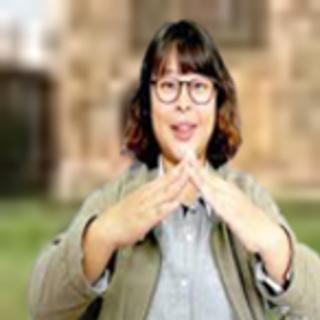HOME: (103, 147, 275, 256)
